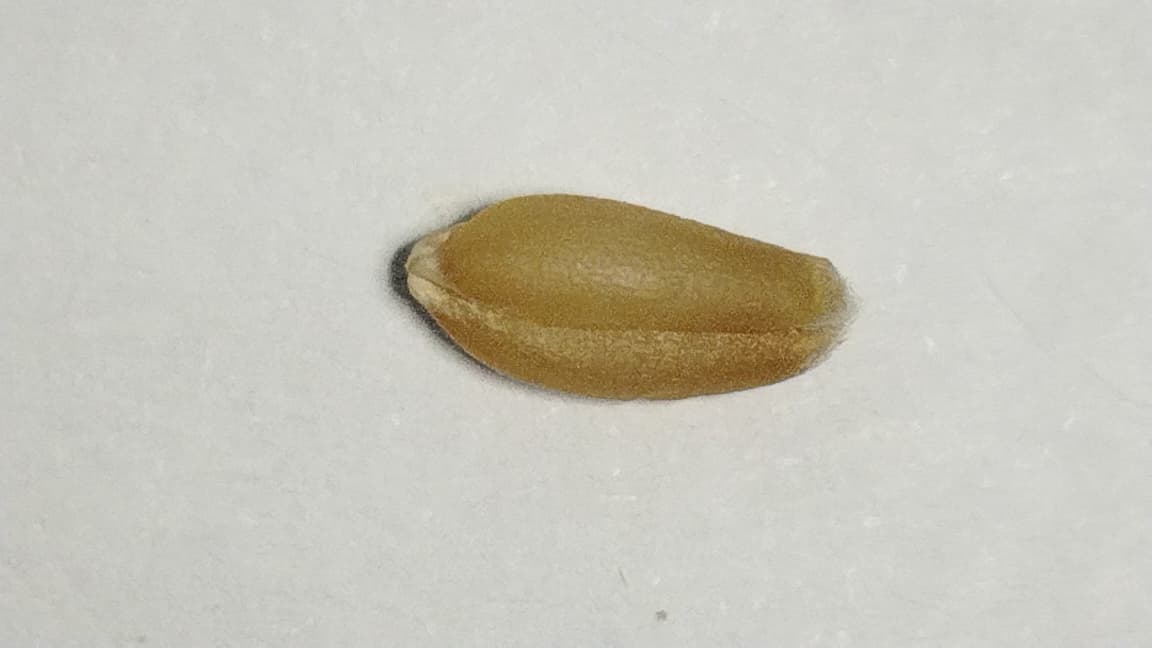healthy: (406, 194, 845, 400)
